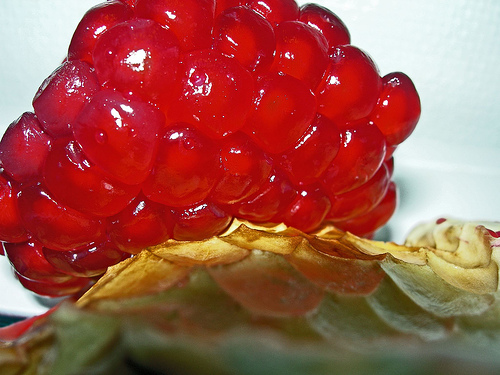pomogranate: (0, 0, 425, 291)
